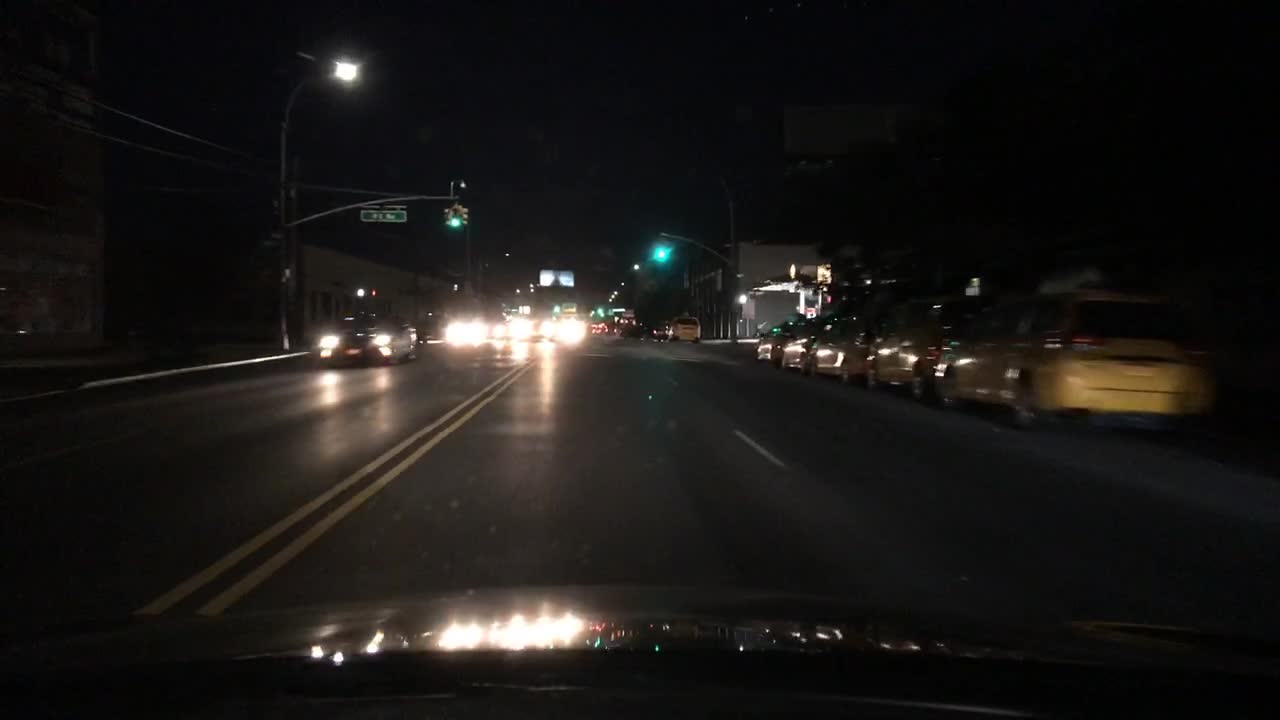car: (932, 291, 1223, 435), (863, 294, 990, 398), (804, 302, 885, 383), (311, 309, 419, 368), (775, 315, 829, 375), (749, 320, 796, 364), (510, 310, 558, 343), (440, 314, 489, 346), (666, 317, 705, 344), (618, 318, 645, 341), (650, 320, 674, 341)
traffic light: (649, 239, 670, 265), (447, 202, 463, 228), (460, 202, 473, 228), (437, 205, 450, 225)
traffic sign: (356, 209, 408, 225)
